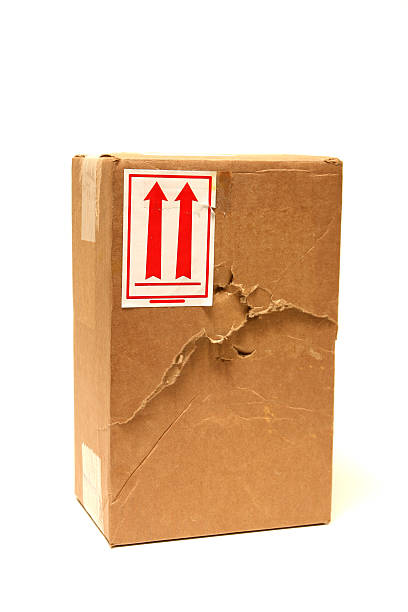damaged package: (132, 273, 341, 418)
